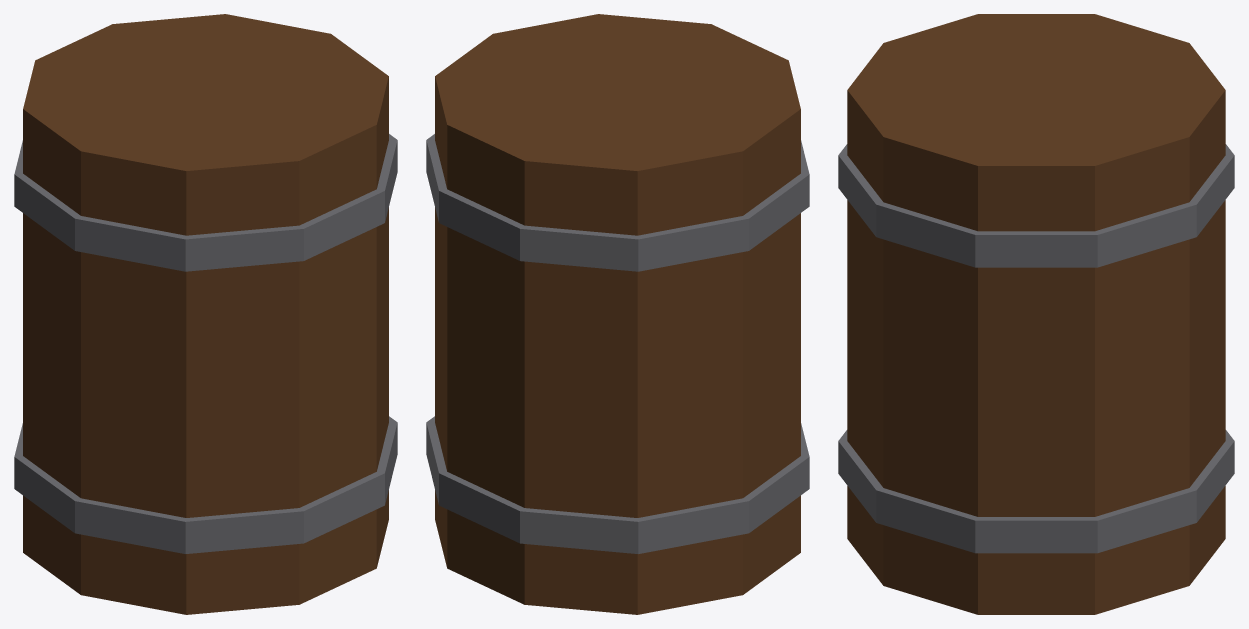
File: SM_GZ_barrel.fbx
The picture shows the model from 3 angles, left to right: view 1: azimuth 30°, elevation 25°; view 2: azimuth 150°, elevation 25°; view 3: azimuth 270°, elevation 25°; orthographic projection.
Parts seen in each view (by area): view 1: SM_GZ_barrel; view 2: SM_GZ_barrel; view 3: SM_GZ_barrel.
Boxes of the visible parts, <box> form: SM_GZ_barrel: <box>14,14,397,614</box>; SM_GZ_barrel: <box>426,14,809,614</box>; SM_GZ_barrel: <box>838,14,1234,614</box>.
Size of the model in its own units: 83.69 by 110 by 88.
